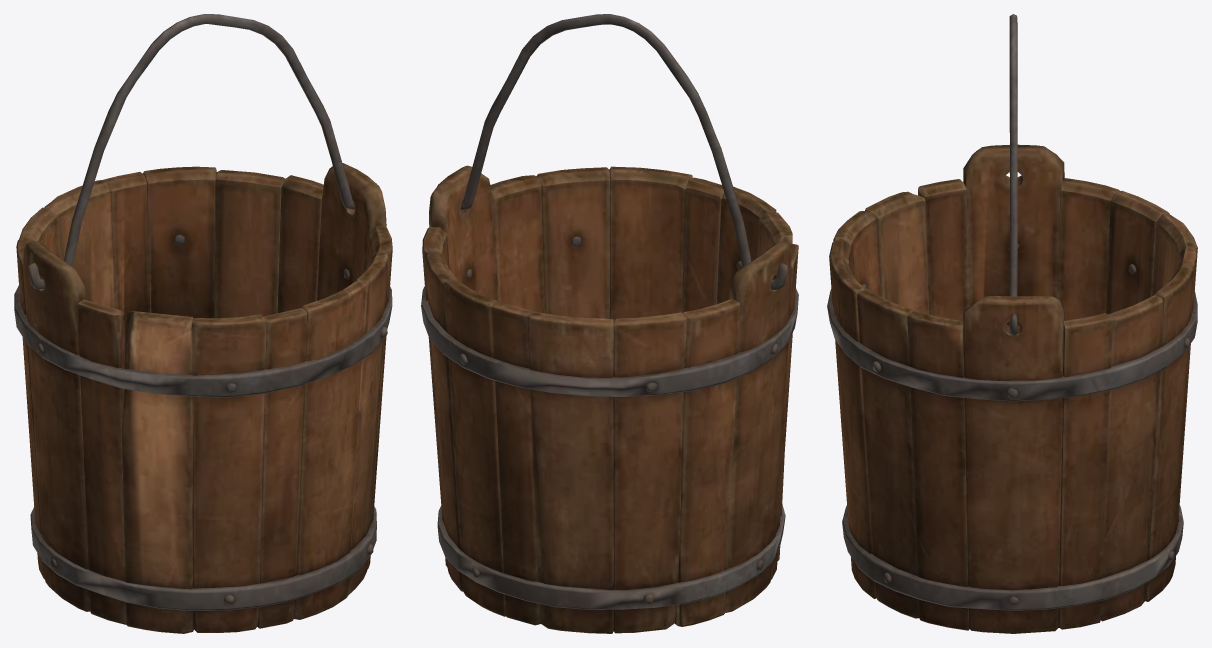
The model's file is balde.glb.
The picture shows the model from 3 angles, left to right: view 1: azimuth 30°, elevation 25°; view 2: azimuth 150°, elevation 25°; view 3: azimuth 270°, elevation 25°; orthographic projection.
Parts seen in each view (by area): view 1: wooden_bucket_01, wooden_bucket_01_handle; view 2: wooden_bucket_01, wooden_bucket_01_handle; view 3: wooden_bucket_01, wooden_bucket_01_handle.
Boxes of the visible parts, x1=… form: wooden_bucket_01: x1=14, y1=163, x2=392, y2=633; wooden_bucket_01_handle: x1=28, y1=14, x2=376, y2=289; wooden_bucket_01: x1=421, y1=165, x2=798, y2=633; wooden_bucket_01_handle: x1=437, y1=14, x2=787, y2=290; wooden_bucket_01: x1=827, y1=144, x2=1197, y2=633; wooden_bucket_01_handle: x1=1009, y1=14, x2=1017, y2=335.
Bounding box in the file's own units: 0.367 × 0.5499 × 0.3419.
Materials: 1 (1 with a texture image).
